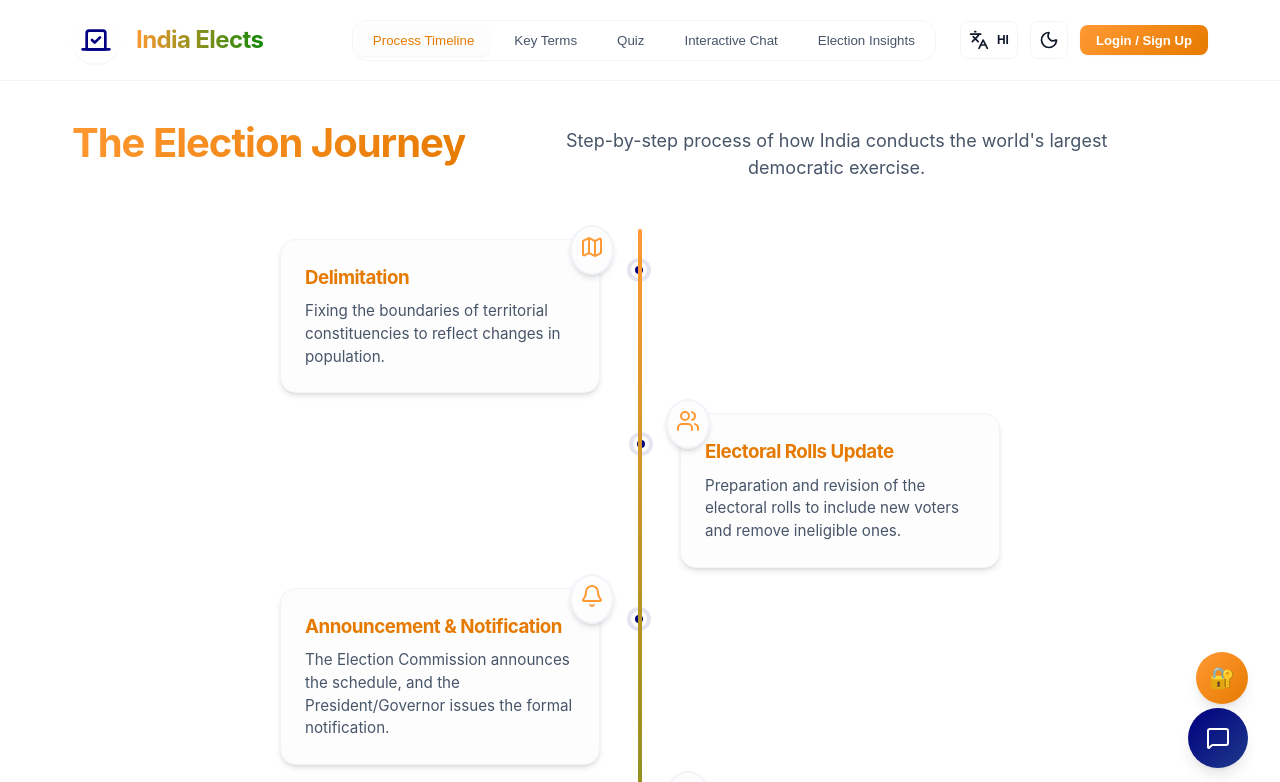
Scenario: 🔐 Auth FAB Button › opens the Auth Modal when FAB is clicked
This screenshot has width=1280, height=782.
Click the button with id "auth-fab-btn": [1222, 678] box [1196,652,1248,704]
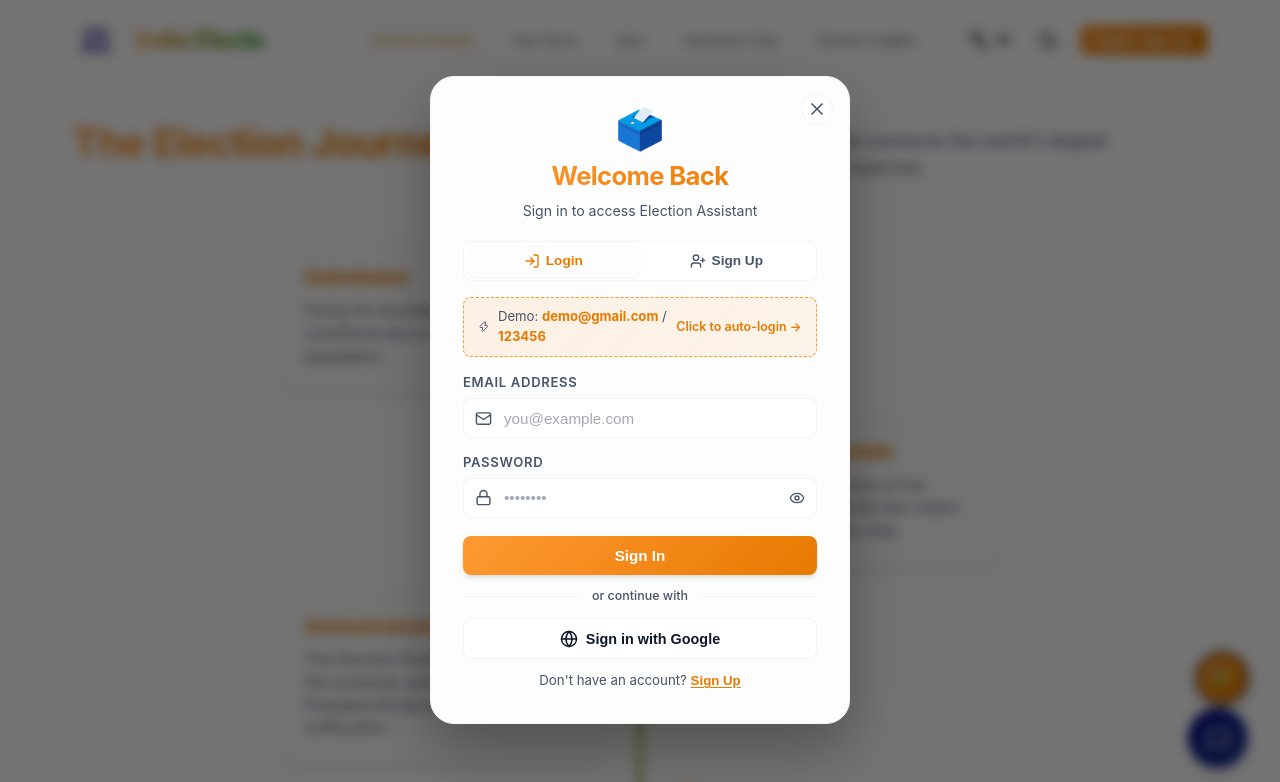
Result: the element with class "auth-modal" is shown at [430,76,850,724]
